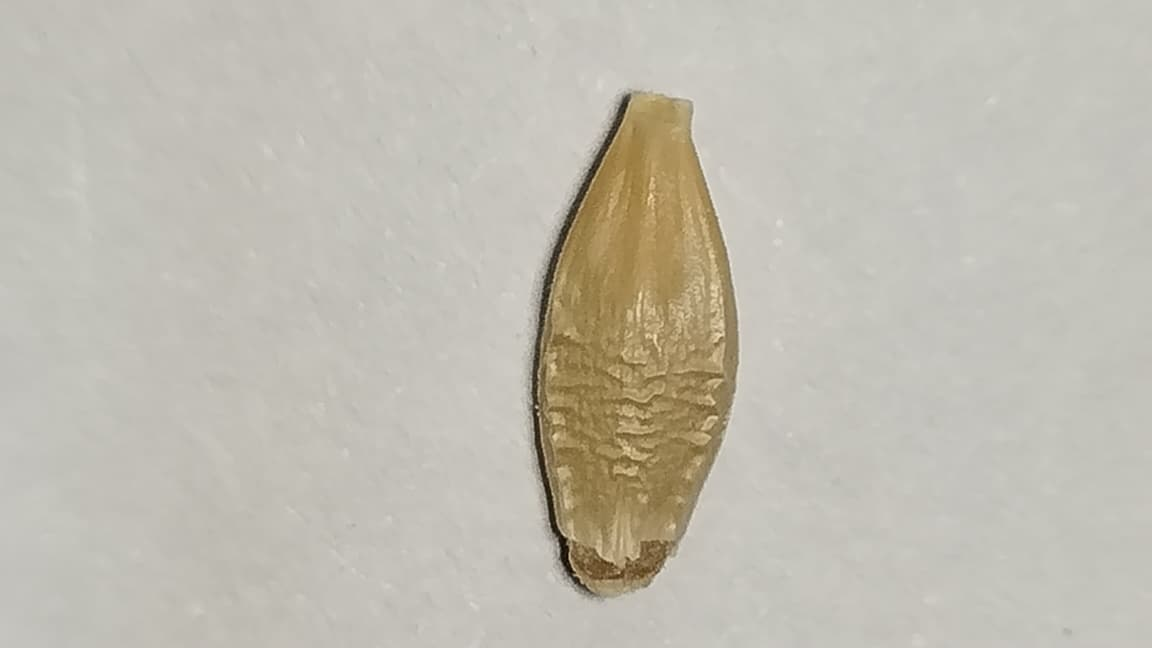healthy-50-40: (538, 94, 735, 595)
